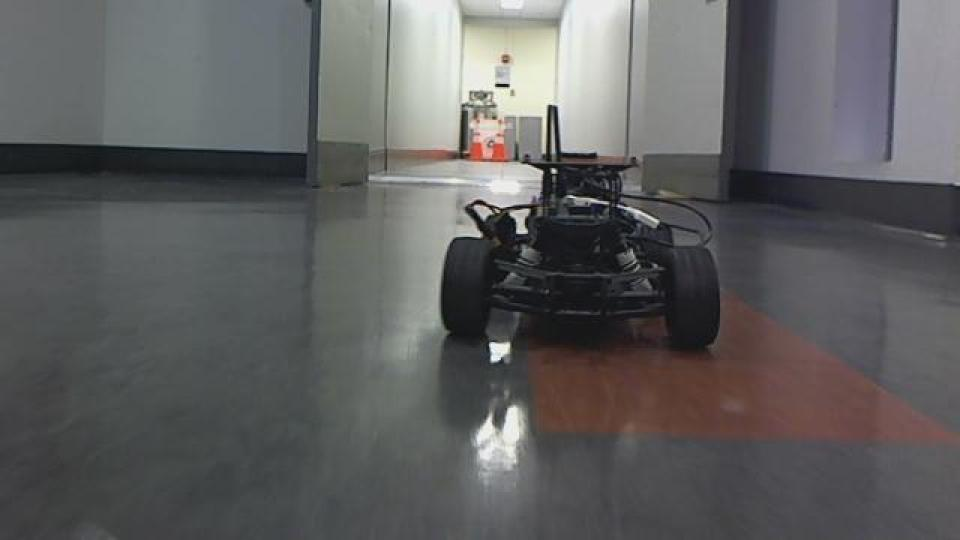car: (435, 102, 723, 352)
